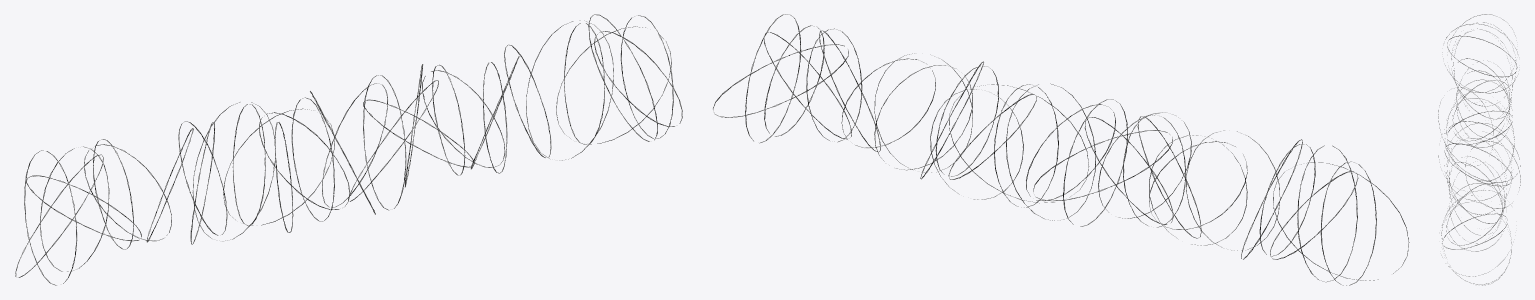
Rendered from Fence.FBX.
3 renders of one model, left to right at view 1: azimuth 30°, elevation 25°; view 2: azimuth 150°, elevation 25°; view 3: azimuth 270°, elevation 25°, orthographic. The views are drawn at different scales.
Visible parts, largest first — view 1: obj388; view 2: obj388; view 3: obj388.
Part boxes in pixels (<box>): obj388: <box>15,14,682,285</box>; obj388: <box>713,14,1409,285</box>; obj388: <box>1438,14,1520,285</box>.
Bounding box in the file's own units: 60.78 × 11.06 × 9.78.
